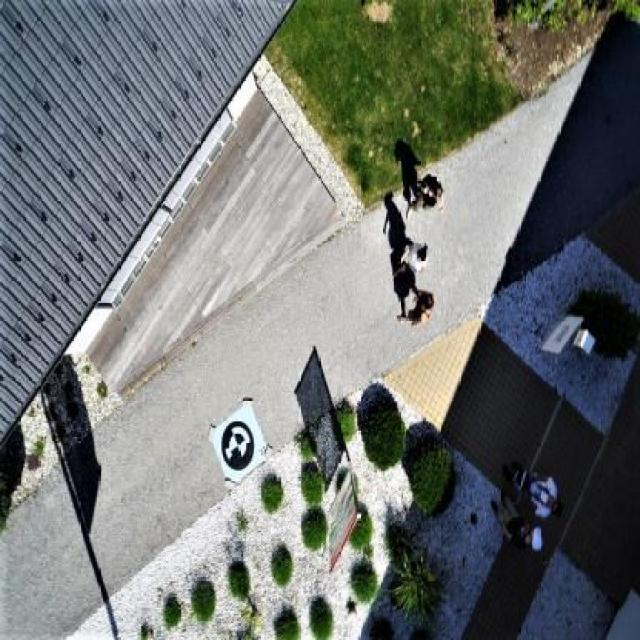Person: (487, 481, 544, 554), (504, 454, 565, 520), (396, 284, 442, 330), (404, 172, 445, 220), (392, 238, 433, 278)
